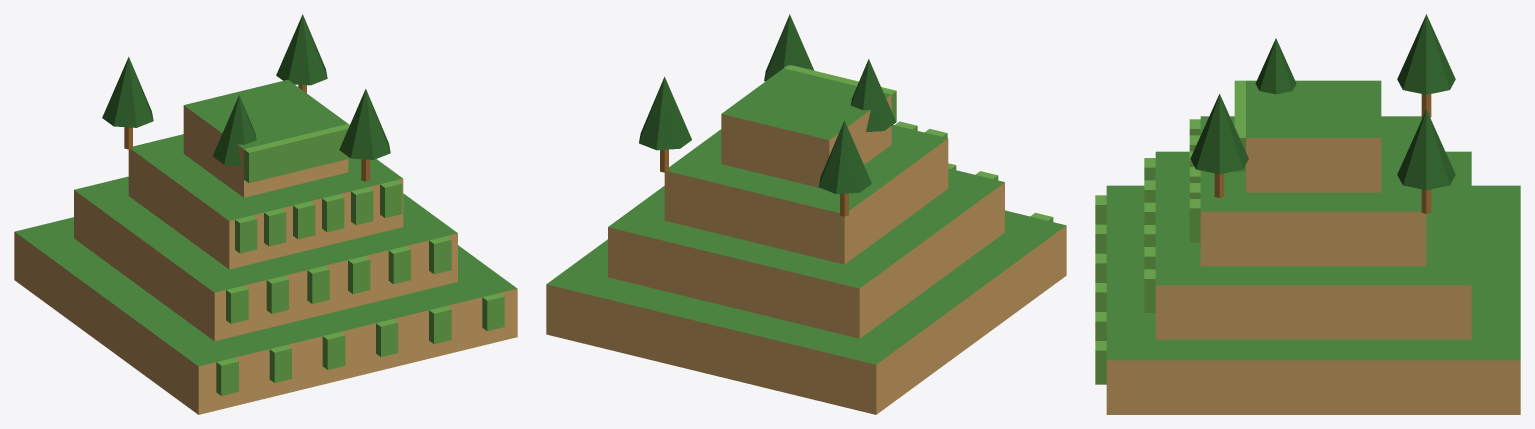
File: hanging_gardens.glb
3 views of the same model, side by side, from view 1: azimuth 30°, elevation 25°; view 2: azimuth 150°, elevation 25°; view 3: azimuth 270°, elevation 25° (orthographic). The views are drawn at different scales.
Visible parts, largest first — view 1: hanging_gardens; view 2: hanging_gardens; view 3: hanging_gardens.
Part boxes in pixels (box(x1,y1,x2,y2)): hanging_gardens: box(14, 14, 517, 414); hanging_gardens: box(546, 14, 1066, 414); hanging_gardens: box(1095, 14, 1520, 414).
Bounding box in the file's own units: 1.1 × 0.78 × 1.13.
